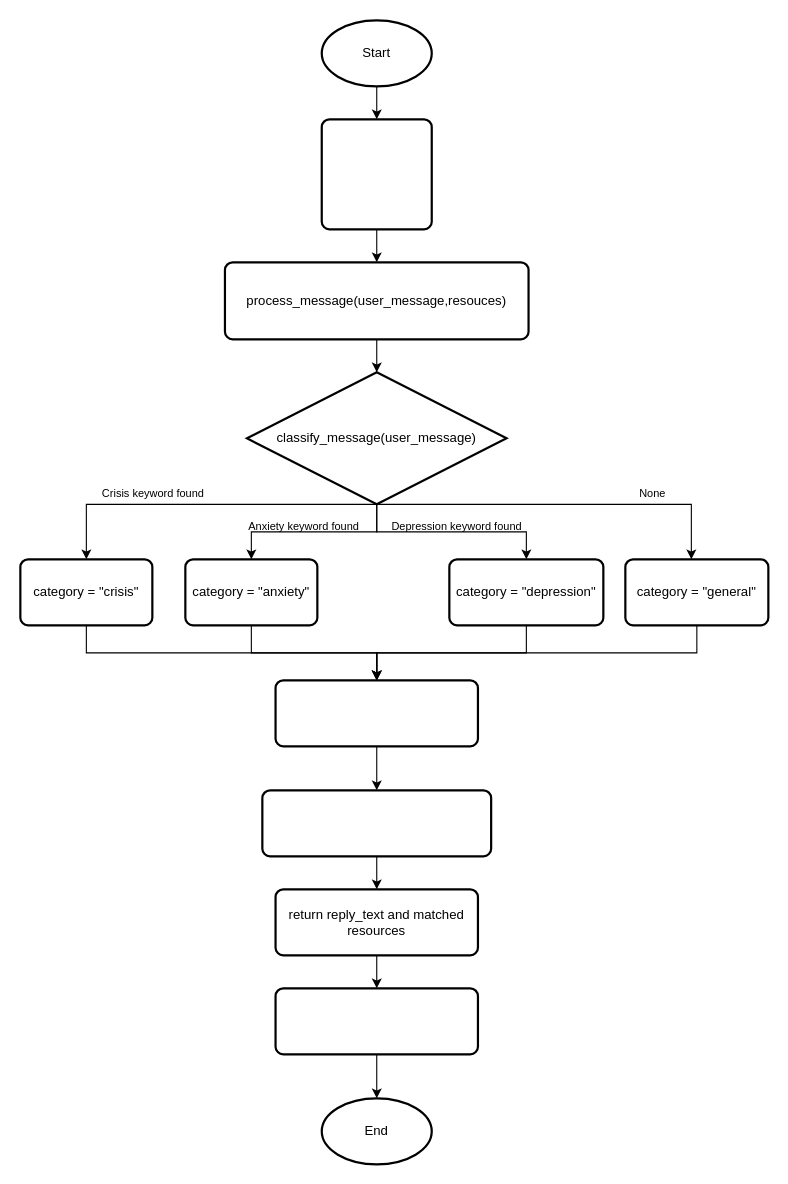
This 788x1184 diagram has some shape labels left out. Here are the shapes that lost their labels. From the top down, the centre of each, then its label:
(x=376, y=174): POST "/chat/" receives JSON message
(x=376, y=713): generate_reply(category)
(x=376, y=823): get_resources(category, resources)
(x=376, y=1021): "/chat/" returns JSON response
